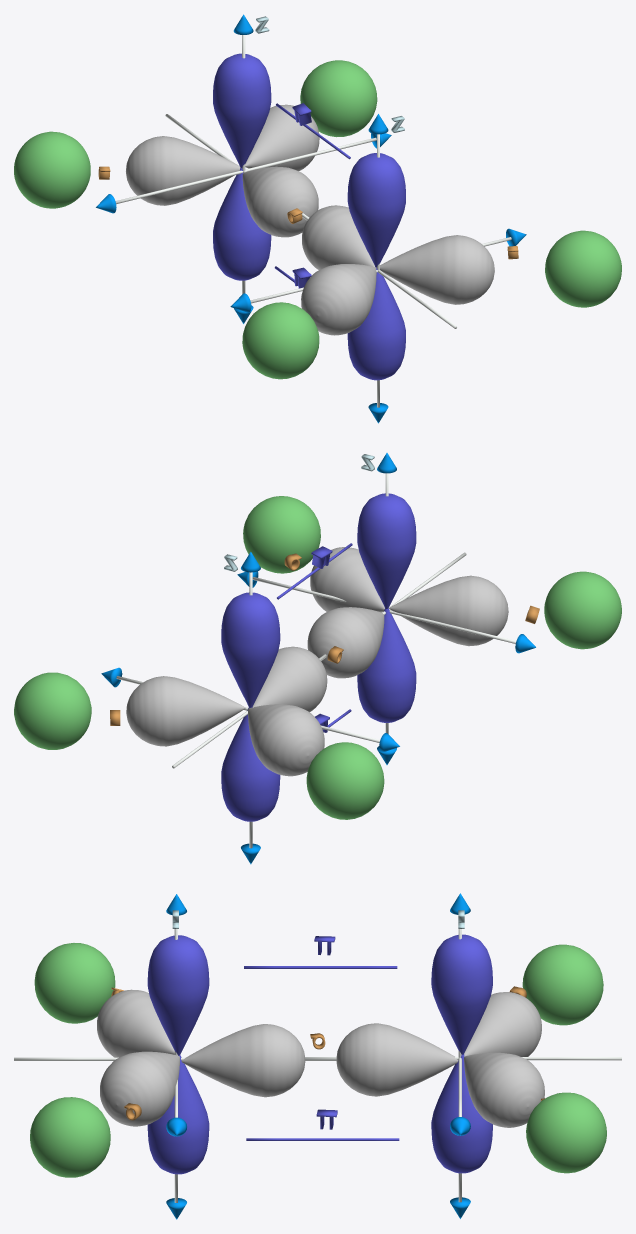
File: ethene.glb
3 renders of one model, top to bottom at view 1: azimuth 30°, elevation 25°; view 2: azimuth 150°, elevation 25°; view 3: azimuth 270°, elevation 25°, orthographic. The views are drawn at different scales.
Parts seen in each view (by area): view 1: sp2_lobe_CH_2, sp2_lobe_CH_4, H_atom_4, H_atom_1, H_atom_2, pi_p_lobe_1, pi_p_lobe_3, H_atom_3, sp2_lobe_CH_1, sigma_CC_sp2_lobe_C2, pi_p_lobe_4, pi_p_lobe_2 (+3 smaller); view 2: sp2_lobe_CH_3, sp2_lobe_CH_1, H_atom_1, H_atom_3, H_atom_4, pi_p_lobe_3, pi_p_lobe_1, H_atom_2, sp2_lobe_CH_4, pi_p_lobe_2, sigma_CC_sp2_lobe_C1, pi_p_lobe_4 (+3 smaller); view 3: sigma_CC_sp2_lobe_C1, sigma_CC_sp2_lobe_C2, H_atom_2, H_atom_3, pi_p_lobe_3, pi_p_lobe_1, H_atom_4, H_atom_1, sp2_lobe_CH_3, sp2_lobe_CH_2, pi_p_lobe_4, pi_p_lobe_2 (+6 smaller).
Boxes of the visible parts, x1=… form: sp2_lobe_CH_2: x1=380, y1=235, x2=494, y2=304; sp2_lobe_CH_4: x1=126, y1=136, x2=240, y2=205; H_atom_4: x1=242, y1=302, x2=319, y2=379; H_atom_1: x1=14, y1=131, x2=90, y2=208; H_atom_2: x1=545, y1=230, x2=621, y2=307; pi_p_lobe_1: x1=347, y1=153, x2=405, y2=267; pi_p_lobe_3: x1=213, y1=53, x2=271, y2=167; H_atom_3: x1=300, y1=60, x2=377, y2=137; sp2_lobe_CH_1: x1=301, y1=264, x2=376, y2=335; sigma_CC_sp2_lobe_C2: x1=242, y1=166, x2=318, y2=237; pi_p_lobe_4: x1=213, y1=167, x2=271, y2=280; pi_p_lobe_2: x1=347, y1=267, x2=405, y2=380; sp2_lobe_CH_3: x1=126, y1=676, x2=245, y2=746; sp2_lobe_CH_1: x1=389, y1=575, x2=508, y2=646; H_atom_1: x1=306, y1=742, x2=384, y2=819; H_atom_3: x1=14, y1=672, x2=91, y2=749; H_atom_4: x1=544, y1=571, x2=621, y2=649; pi_p_lobe_3: x1=221, y1=592, x2=280, y2=707; pi_p_lobe_1: x1=357, y1=493, x2=416, y2=608; H_atom_2: x1=243, y1=496, x2=320, y2=573; sp2_lobe_CH_4: x1=248, y1=704, x2=324, y2=776; pi_p_lobe_2: x1=357, y1=608, x2=416, y2=722; sigma_CC_sp2_lobe_C1: x1=307, y1=607, x2=384, y2=678; pi_p_lobe_4: x1=221, y1=707, x2=280, y2=821; sigma_CC_sp2_lobe_C1: x1=181, y1=1024, x2=305, y2=1097; sigma_CC_sp2_lobe_C2: x1=336, y1=1023, x2=458, y2=1096; H_atom_2: x1=30, y1=1097, x2=110, y2=1177; H_atom_3: x1=526, y1=1092, x2=606, y2=1173; pi_p_lobe_3: x1=431, y1=934, x2=492, y2=1054; pi_p_lobe_1: x1=147, y1=935, x2=209, y2=1055; H_atom_4: x1=34, y1=943, x2=115, y2=1023; H_atom_1: x1=522, y1=944, x2=603, y2=1025; sp2_lobe_CH_3: x1=464, y1=1052, x2=544, y2=1127; sp2_lobe_CH_2: x1=100, y1=1051, x2=179, y2=1126; pi_p_lobe_4: x1=431, y1=1054, x2=492, y2=1173; pi_p_lobe_2: x1=147, y1=1055, x2=209, y2=1174.
Size of the model in its own units: 1.54 by 1.25 by 2.11.
